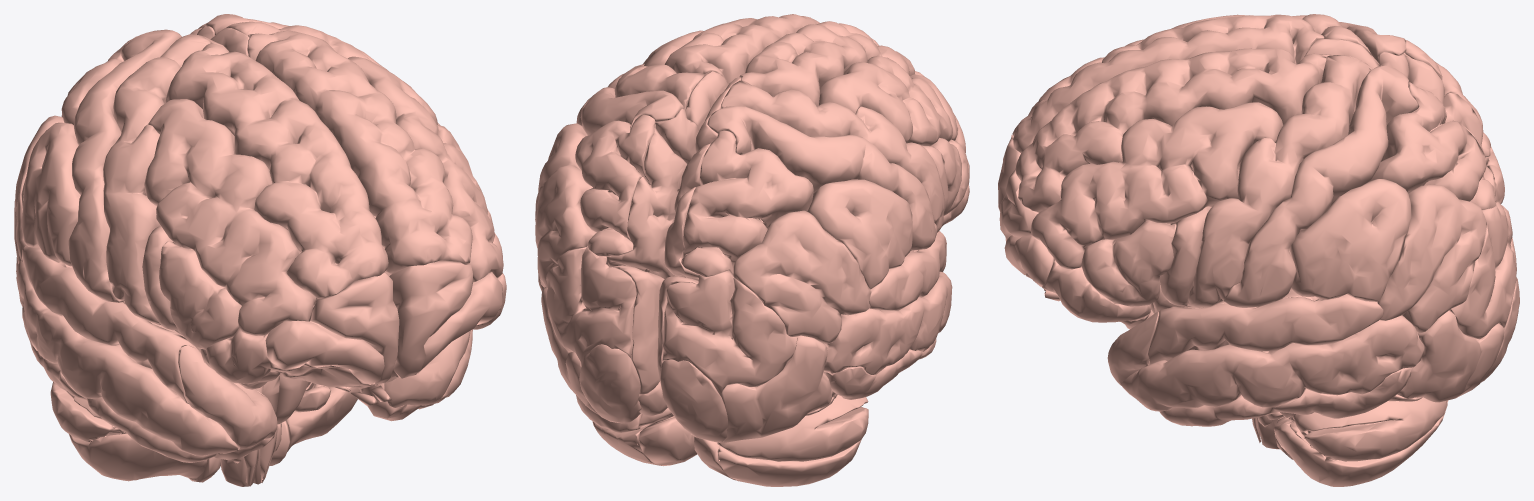
The model's file is brain-female.glb.
3 views of the same model, side by side, from view 1: azimuth 30°, elevation 25°; view 2: azimuth 150°, elevation 25°; view 3: azimuth 270°, elevation 25° (orthographic). The views are drawn at different scales.
Parts seen in each view (by area): view 1: Allen_superior_frontal_gyrus_L, Allen_middle_frontal_gyrus_L, Allen_superior_frontal_gyrus_R, Allen_middle_temporal_gyrus_L, Allen_primary_motor_cortex_L, Allen_postcentral_gyrus_L, Allen_superior_temporal_gyrus_L, Allen_middle_frontal_gyrus_R, Allen_supramarginal_gyrus_L, Allen_rostral_gyrus_R, Allen_lateral_hemisphere_of_cerebellum_L, Allen_inferior_frontal_gyrus_triangular_part_L (+19 smaller); view 2: Allen_angular_gyrus_L, Allen_supraparietal_lobule_L, Allen_superior_occipital_gyrus_L, Allen_postcentral_gyrus_L, Allen_lateral_hemisphere_of_cerebellum_L, Allen_superior_occipital_gyrus_R, Allen_supraparietal_lobule_R, Allen_primary_motor_cortex_L, Allen_supramarginal_gyrus_L, Allen_middle_frontal_gyrus_L, Allen_superior_frontal_gyrus_L, Allen_middle_temporal_gyrus_L (+24 smaller); view 3: Allen_middle_frontal_gyrus_R, Allen_superior_frontal_gyrus_R, Allen_middle_temporal_gyrus_R, Allen_primary_motor_cortex_R, Allen_postcentral_gyrus_R, Allen_supramarginal_gyrus_R, Allen_angular_gyrus_R, Allen_superior_temporal_gyrus_R, Allen_lateral_hemisphere_of_cerebellum_R, Allen_superior_frontal_gyrus_L, Allen_supraparietal_lobule_R, Allen_inferior_frontal_gyrus_triangular_part_R (+16 smaller).
Part boxes in pixels (x1,y1,x2,y2): Allen_superior_frontal_gyrus_L: (165, 43, 388, 305); Allen_middle_frontal_gyrus_L: (144, 99, 315, 335); Allen_superior_frontal_gyrus_R: (247, 30, 472, 273); Allen_middle_temporal_gyrus_L: (16, 260, 238, 455); Allen_primary_motor_cortex_L: (103, 34, 210, 324); Allen_postcentral_gyrus_L: (68, 29, 181, 302); Allen_superior_temporal_gyrus_L: (22, 245, 195, 404); Allen_middle_frontal_gyrus_R: (348, 56, 503, 282); Allen_supramarginal_gyrus_L: (21, 122, 80, 266); Allen_rostral_gyrus_R: (389, 260, 473, 378); Allen_lateral_hemisphere_of_cerebellum_L: (50, 382, 207, 481); Allen_inferior_frontal_gyrus_triangular_part_L: (159, 241, 241, 349); Allen_angular_gyrus_L: (733, 210, 870, 344); Allen_supraparietal_lobule_L: (681, 130, 813, 276); Allen_superior_occipital_gyrus_L: (662, 270, 797, 394); Allen_postcentral_gyrus_L: (707, 106, 937, 250); Allen_lateral_hemisphere_of_cerebellum_L: (717, 395, 868, 486); Allen_superior_occipital_gyrus_R: (546, 246, 636, 365); Allen_supraparietal_lobule_R: (575, 114, 655, 256); Allen_primary_motor_cortex_L: (721, 80, 944, 232); Allen_supramarginal_gyrus_L: (807, 179, 912, 289); Allen_middle_frontal_gyrus_L: (819, 55, 965, 152); Allen_superior_frontal_gyrus_L: (739, 21, 923, 106); Allen_middle_temporal_gyrus_L: (823, 271, 952, 374); Allen_middle_frontal_gyrus_R: (1031, 102, 1283, 269); Allen_superior_frontal_gyrus_R: (1015, 48, 1326, 212); Allen_middle_temporal_gyrus_R: (1121, 315, 1424, 411); Allen_primary_motor_cortex_R: (1187, 55, 1370, 307); Allen_postcentral_gyrus_R: (1224, 65, 1419, 307); Allen_supramarginal_gyrus_R: (1289, 179, 1411, 301); Allen_angular_gyrus_R: (1377, 184, 1486, 333); Allen_superior_temporal_gyrus_R: (1147, 294, 1383, 365); Allen_lateral_hemisphere_of_cerebellum_R: (1266, 397, 1447, 486); Allen_superior_frontal_gyrus_L: (1012, 14, 1324, 152); Allen_supraparietal_lobule_R: (1370, 82, 1496, 209); Allen_inferior_frontal_gyrus_triangular_part_R: (1081, 220, 1176, 306).
Size of the model in its own units: 0.1363 by 0.1461 by 0.1669.
